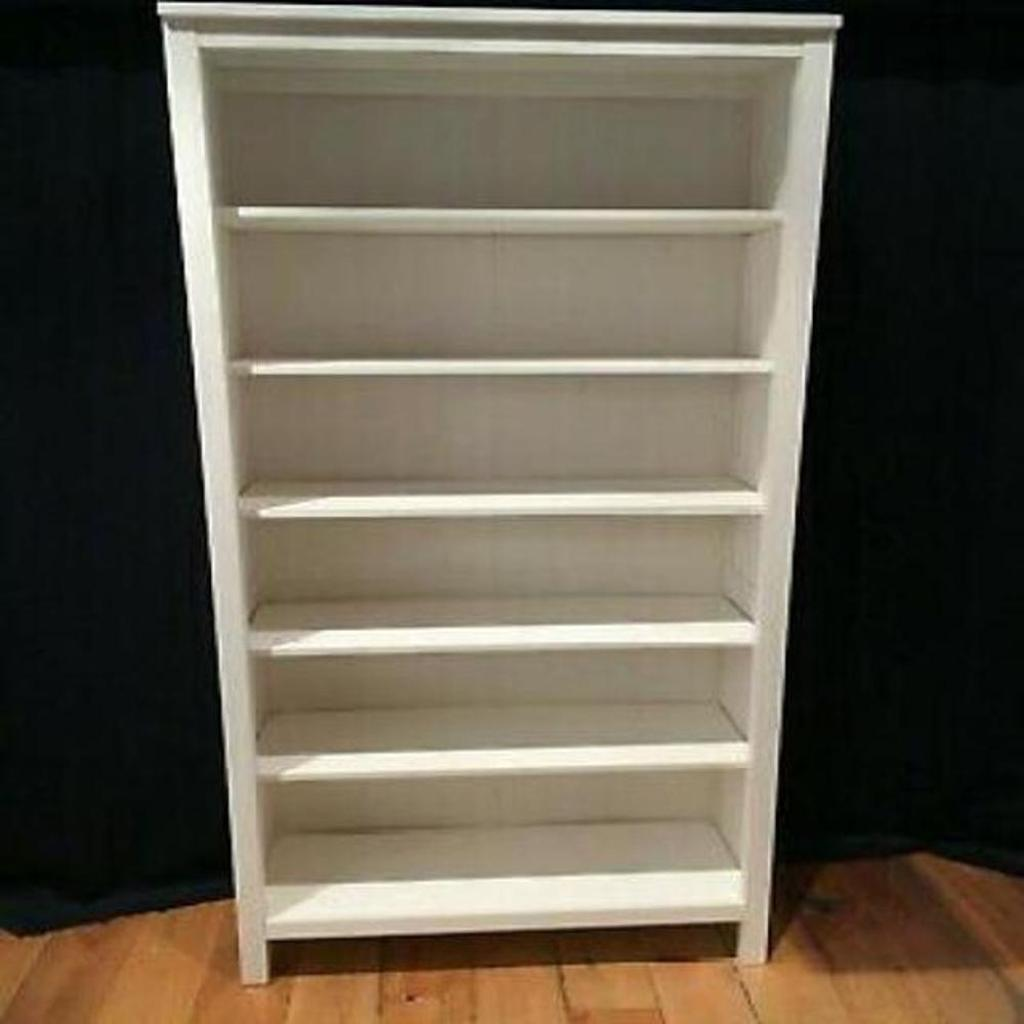lamp: (156, 0, 846, 990)
